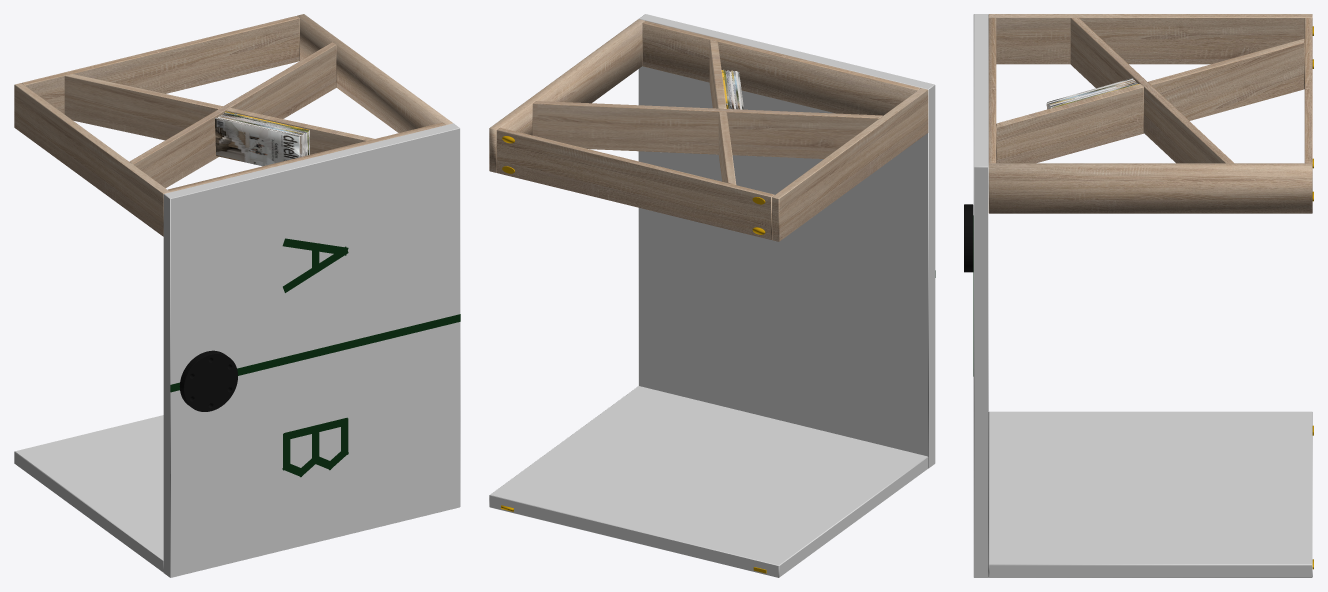
The model's file is table_vla.obj.
3 renders of one model, left to right at view 1: azimuth 30°, elevation 25°; view 2: azimuth 150°, elevation 25°; view 3: azimuth 270°, elevation 25°, orthographic. The views are drawn at different scales.
Parts seen in each view (by area): view 1: Material2.014, Material2.013, Material2, Material2.001, Material2.005, Material2.006, Material2.002, Material2.020, KinovaMountingPlate, Table_Divider_Tape, Material2.003, Material2.004 (+1 smaller); view 2: Material2.014, Material2.013, Material2.005, Material2, Material2.004, Material2.001, Material2.002, Material2.006, Material2.003; view 3: Material2.013, Material2.002, Material2.001, Material2.014, Material2.003, Material2.006, Material2.005, Material2, Material2.004, KinovaMountingPlate.
Boxes of the visible parts, left/top/right/bottom form: Material2.014: left=163, top=123, right=460, bottom=577; Material2.013: left=14, top=415, right=163, bottom=572; Material2: left=22, top=16, right=299, bottom=113; Material2.001: left=14, top=83, right=170, bottom=236; Material2.005: left=129, top=42, right=336, bottom=188; Material2.006: left=64, top=74, right=222, bottom=140; Material2.002: left=297, top=14, right=452, bottom=132; Material2.020: left=215, top=117, right=300, bottom=166; KinovaMountingPlate: left=179, top=350, right=237, bottom=411; Table_Divider_Tape: left=170, top=314, right=460, bottom=392; Material2.003: left=225, top=108, right=374, bottom=154; Material2.004: left=168, top=122, right=445, bottom=191; Material2.014: left=638, top=14, right=935, bottom=468; Material2.013: left=489, top=386, right=928, bottom=577; Material2.005: left=532, top=101, right=882, bottom=158; Material2: left=496, top=127, right=774, bottom=239; Material2.004: left=642, top=21, right=920, bottom=115; Material2.001: left=772, top=88, right=928, bottom=241; Material2.002: left=489, top=19, right=645, bottom=172; Material2.006: left=718, top=111, right=736, bottom=184; Material2.003: left=709, top=40, right=726, bottom=108; Material2.013: left=988, top=411, right=1312, bottom=577; Material2.002: left=988, top=163, right=1312, bottom=213; Material2.001: left=988, top=14, right=1312, bottom=64; Material2.014: left=973, top=14, right=988, bottom=577; Material2.003: left=996, top=84, right=1143, bottom=163; Material2.006: left=1148, top=38, right=1304, bottom=120; Material2.005: left=1070, top=18, right=1233, bottom=163; Material2: left=1304, top=18, right=1312, bottom=163; Material2.004: left=988, top=18, right=996, bottom=163; KinovaMountingPlate: left=964, top=204, right=973, bottom=272.
Bounding box in the file's own units: 0.8 × 1 × 0.7707.
6 materials, 2 textured.
